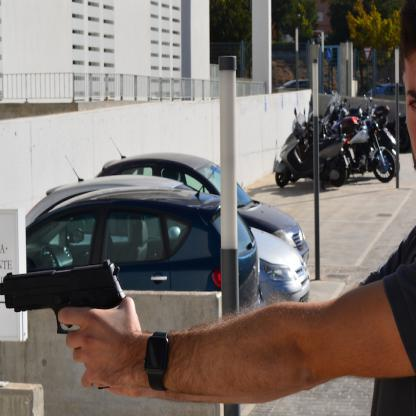gun: (0, 257, 127, 390)
